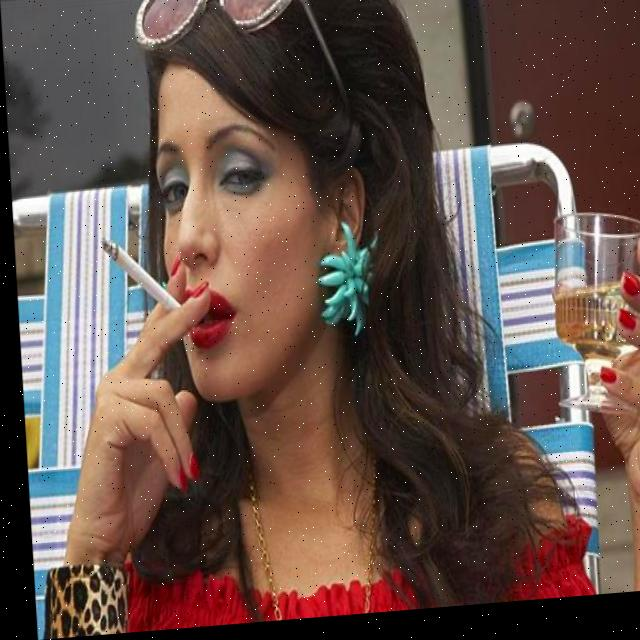cigarette: (96, 233, 176, 317)
